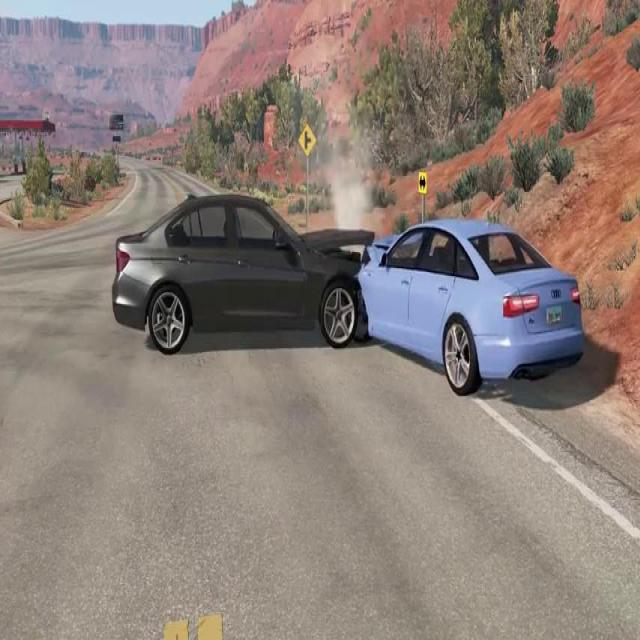moderate: (107, 183, 588, 397)
